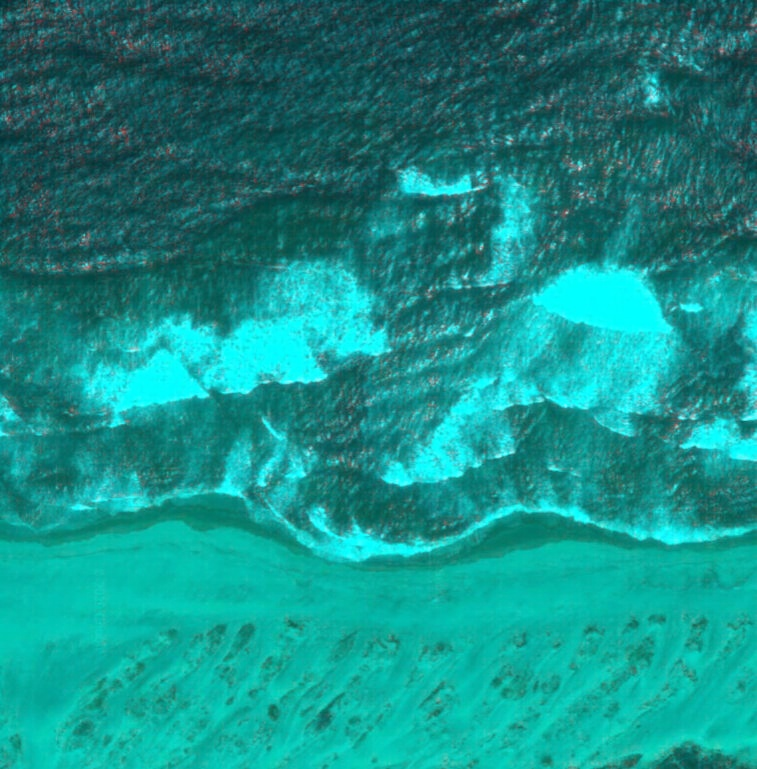rip_current: (272, 186, 517, 512)
